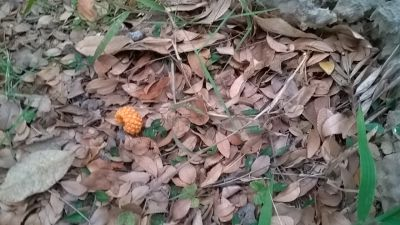eggs: (114, 104, 142, 134)
